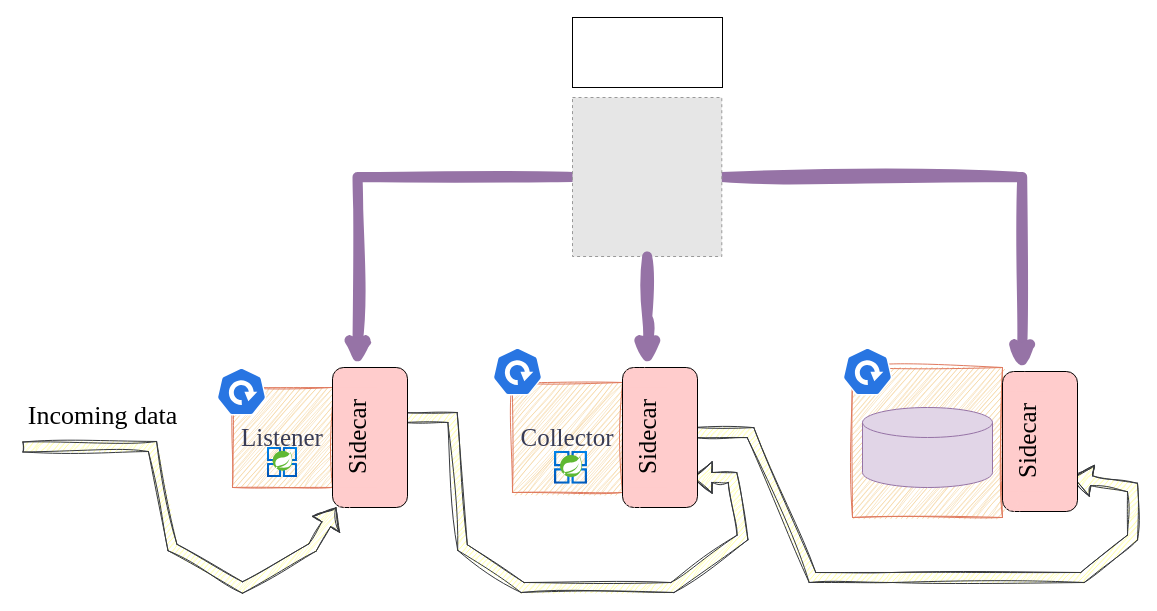
Image size: 1157x611. Some labels were removed from this diagram. Grey dashed boxes stand in for pictures. The shapes that lost their labels are listed below. From the top down, each one's centre as x and y in pixels, then its label:
point 647,52: Kuma
point 927,447: Database
